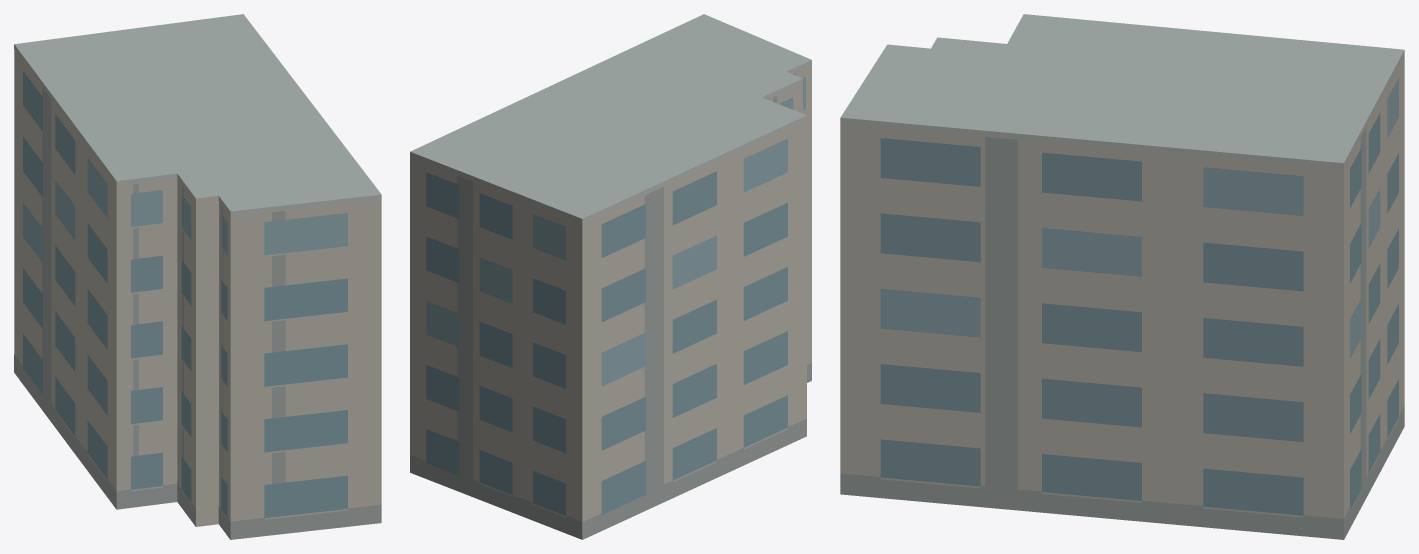
File: survey-upis-32764336.glb
3 renders of one model, left to right at view 1: azimuth 30°, elevation 25°; view 2: azimuth 150°, elevation 25°; view 3: azimuth 270°, elevation 25°, orthographic. The views are drawn at different scales.
Visible parts, largest first — view 1: survey-upis-32764336.tmp; view 2: survey-upis-32764336.tmp; view 3: survey-upis-32764336.tmp.
Boxes of the visible parts, left/top/right/bottom form: survey-upis-32764336.tmp: left=14, top=14, right=381, bottom=539; survey-upis-32764336.tmp: left=410, top=14, right=811, bottom=539; survey-upis-32764336.tmp: left=840, top=14, right=1404, bottom=539.
Size of the model in its own units: 12.49 by 14.7 by 19.97.
